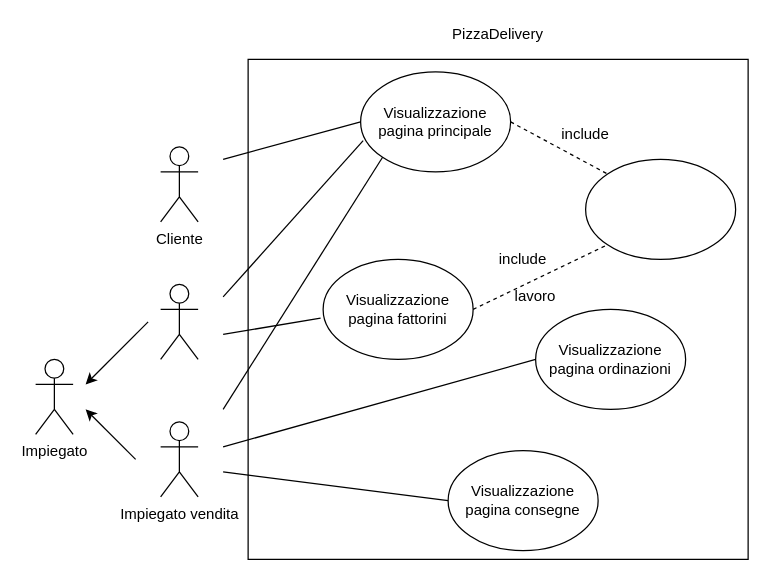
Image size: 770x581. Some labels were removed from this diagram. The shapes that lost their labels are listed below. From the top down, each one's box as (x1, y1, x2, y2) in pixels, then its label:
(584, 158, 736, 259): Ordinazione cibo
(159, 283, 198, 359): Fattorino
